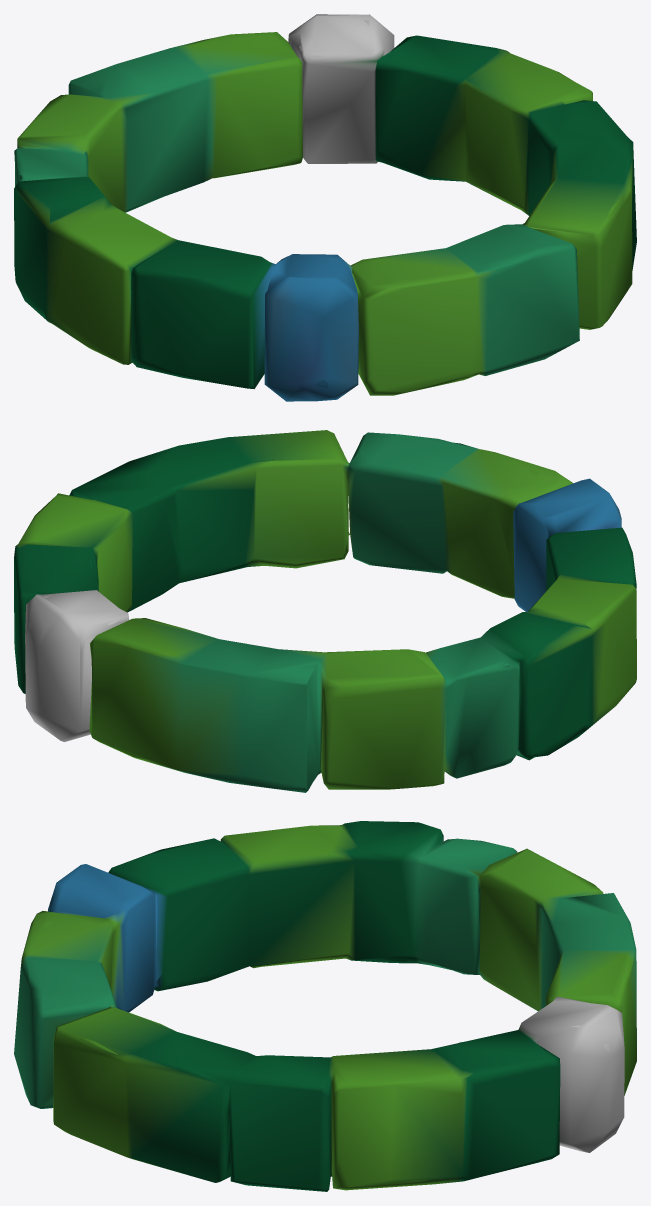
File: gen3d-bracelet-lod1.glb
3 renders of one model, top to bottom at view 1: azimuth 30°, elevation 25°; view 2: azimuth 150°, elevation 25°; view 3: azimuth 270°, elevation 25°, orthographic.
Visible parts, largest first — view 1: part_0; view 2: part_0; view 3: part_0.
Boxes of the visible parts, bbox=[...] form: part_0: bbox=[14, 14, 636, 401]; part_0: bbox=[14, 430, 636, 792]; part_0: bbox=[14, 821, 636, 1191].
Size of the model in its own units: 4.42 by 0.9968 by 4.35.
